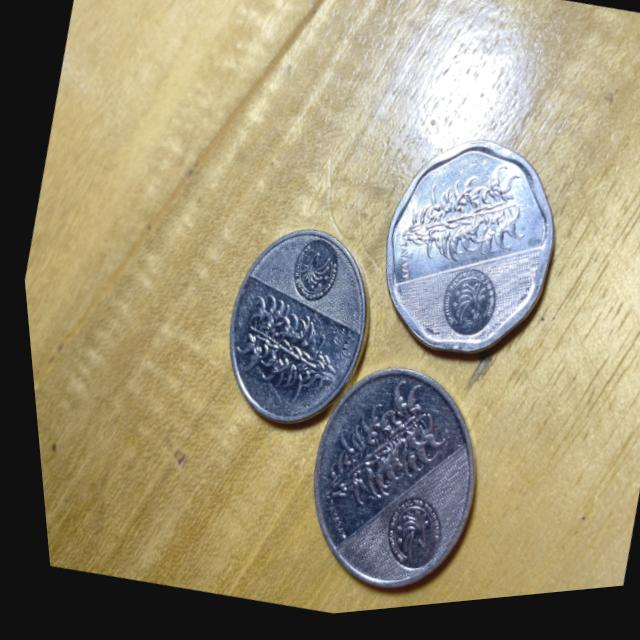5_New_Back: (301, 376, 450, 540), (210, 279, 356, 427), (389, 150, 527, 284)
